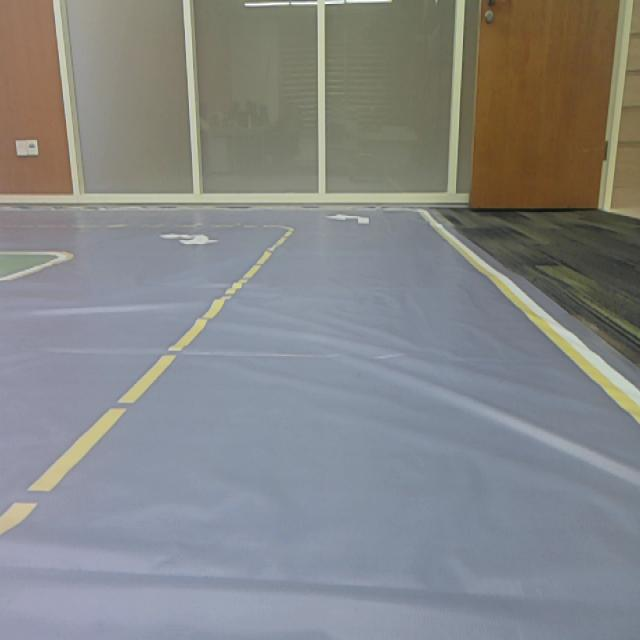left_lane: (0, 229, 293, 538)
right_lane: (419, 212, 640, 423)
